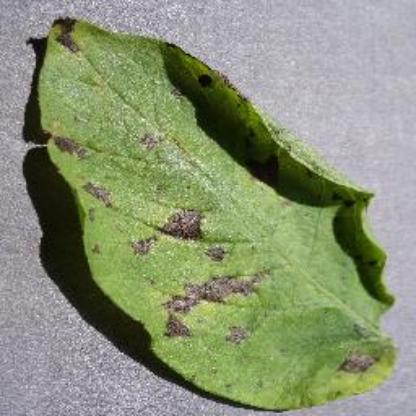Early-Blight: (21, 10, 409, 404)
